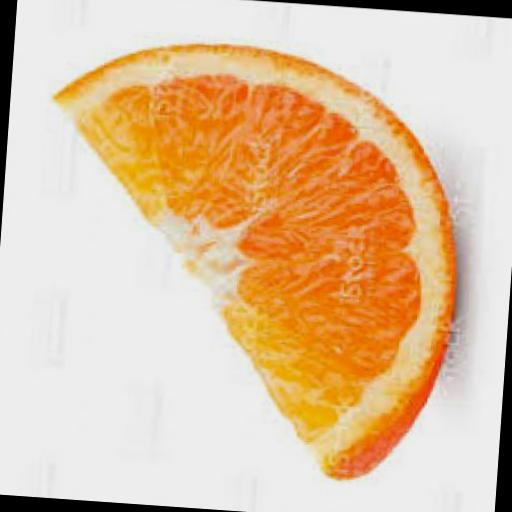biodegradable: (24, 32, 471, 490)
